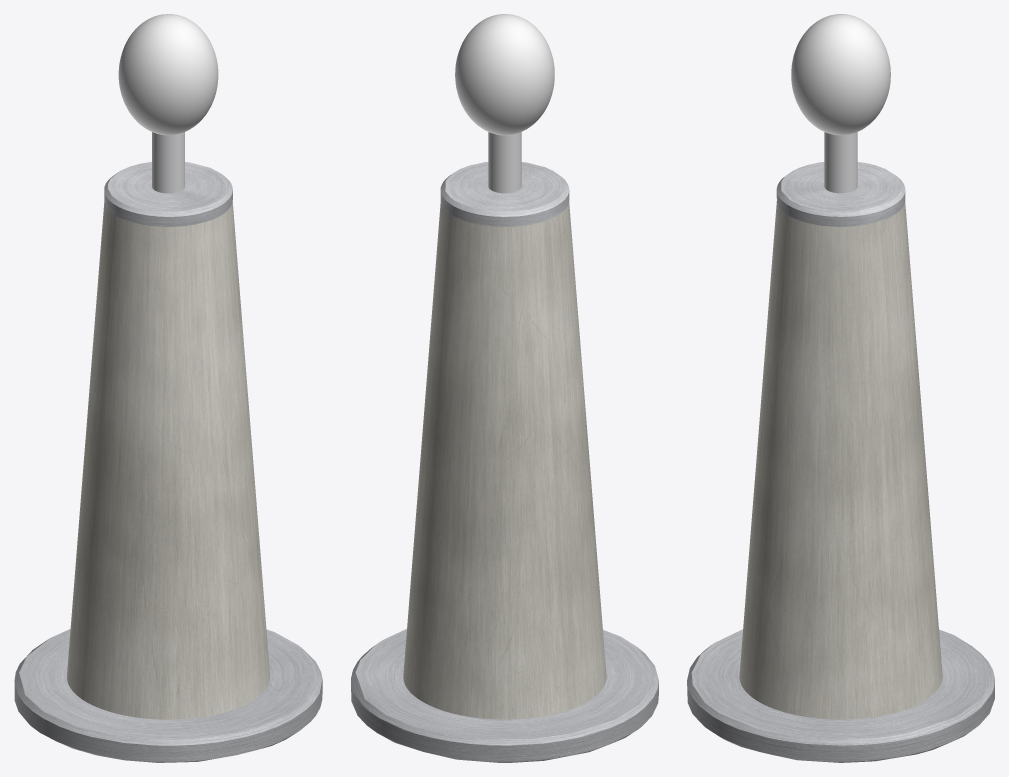
Rendered from queen-white.glb.
3 views of the same model, side by side, from view 1: azimuth 30°, elevation 25°; view 2: azimuth 150°, elevation 25°; view 3: azimuth 270°, elevation 25° (orthographic).
Visible parts, largest first — view 1: ferro-orbis_queen_white; view 2: ferro-orbis_queen_white; view 3: ferro-orbis_queen_white.
Boxes of the visible parts, x1,y1,x2,y2 form: ferro-orbis_queen_white: [14, 14, 322, 762]; ferro-orbis_queen_white: [351, 14, 658, 762]; ferro-orbis_queen_white: [687, 14, 994, 762].
Size of the model in its own units: 0.5941 by 1.45 by 0.5941.
5 materials, 3 textured.
